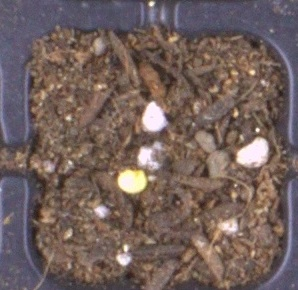chilli seed: (117, 168, 148, 194)
